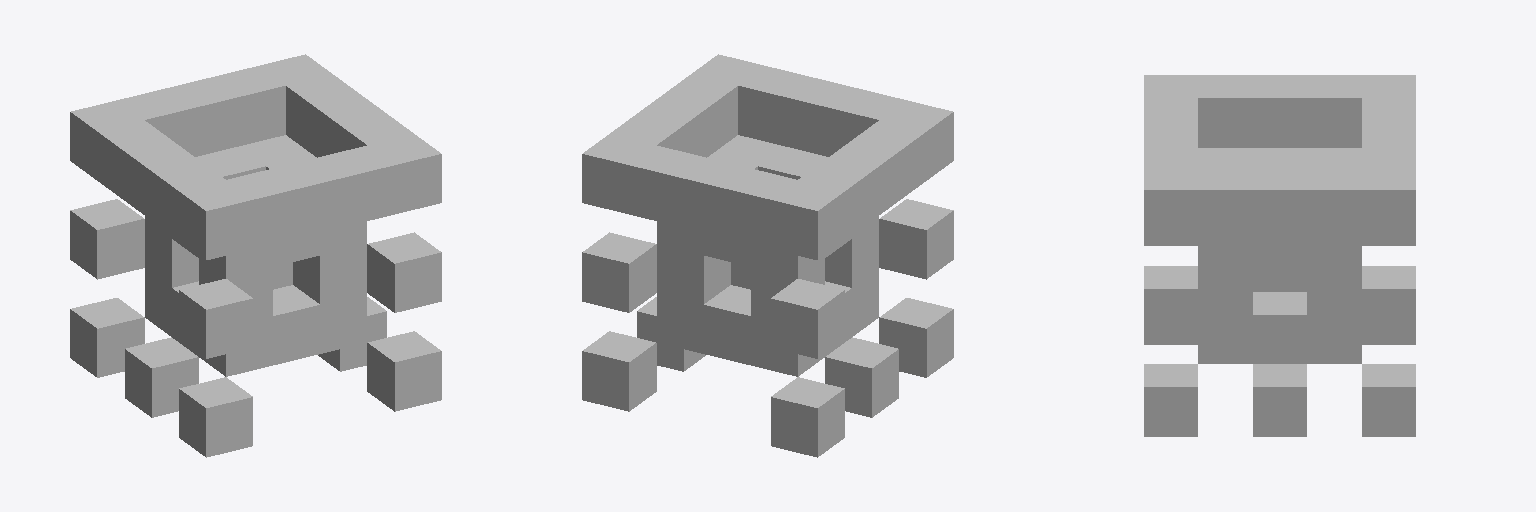
The model's file is Bullet.obj.
The picture shows the model from 3 angles: view 1: azimuth 30°, elevation 25°; view 2: azimuth 150°, elevation 25°; view 3: azimuth 270°, elevation 25°; orthographic projection.
Parts seen in each view (by area): view 1: object 1; view 2: object 1; view 3: object 1.
Part boxes in pixels (x1,y1,x2,y2): object 1: (70, 54, 441, 457); object 1: (582, 54, 953, 457); object 1: (1144, 75, 1415, 436).
Bounding box in the file's own units: 0.5 × 0.5 × 0.5.